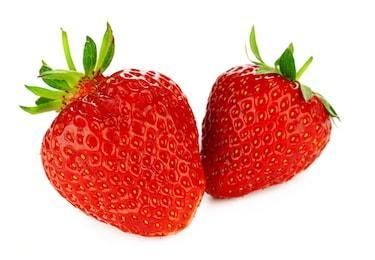Fresa: (38, 66, 210, 241), (195, 60, 339, 210)
